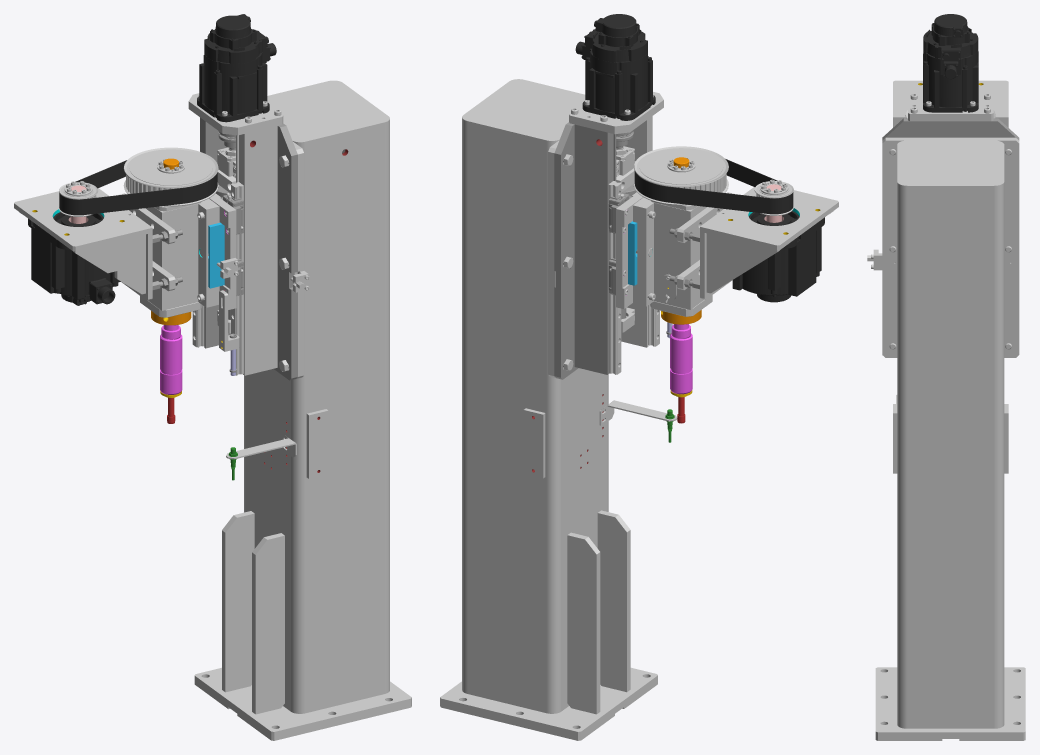
The model's file is tap_proc.obj.
3 views of the same model, side by side, from view 1: azimuth 30°, elevation 25°; view 2: azimuth 150°, elevation 25°; view 3: azimuth 270°, elevation 25° (orthographic). The views are drawn at different scales.
Visible parts, largest first — view 1: obj1, obj6, obj3, obj7, obj15, obj2, obj4, obj9, obj5, obj8; view 2: obj1, obj6, obj7, obj3, obj15, obj2, obj9, obj4; view 3: obj1, obj3, obj7, obj6, obj4.
Boxes of the visible parts, x1,y1,x2,y2 form: obj1: (123,80,411,740); obj6: (14,95,297,375); obj3: (28,14,269,305); obj7: (160,117,297,380); obj15: (59,14,276,215); obj2: (59,181,308,375); obj4: (194,116,309,459); obj9: (160,210,228,394); obj5: (152,131,243,319); obj8: (208,222,224,288); obj1: (440,79,728,740); obj6: (552,93,838,365); obj7: (554,122,692,379); obj3: (582,14,824,302); obj15: (575,20,793,214); obj2: (608,179,793,374); obj9: (624,209,692,394); obj4: (563,115,677,425); obj1: (875,88,1025,740); obj3: (923,14,978,112); obj7: (882,118,1019,140); obj6: (893,80,1008,127); obj4: (871,93,1011,403).
Size of the model in its own units: 845 by 1691 by 370.
